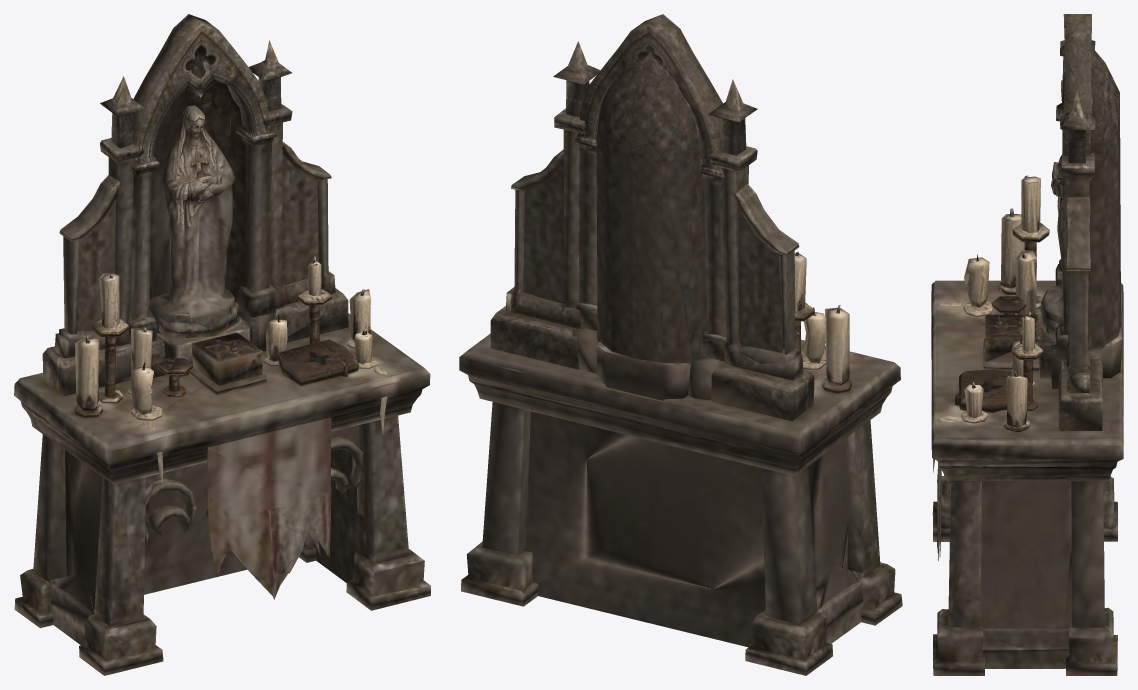
The model's file is h_shrine_candles.glb.
3 renders of one model, left to right at view 1: azimuth 30°, elevation 25°; view 2: azimuth 150°, elevation 25°; view 3: azimuth 270°, elevation 25°, orthographic. The views are drawn at different scales.
Parts seen in each view (by area): view 1: h_shrine_candles; view 2: h_shrine_candles; view 3: h_shrine_candles.
Part boxes in pixels (<box>): h_shrine_candles: <box>14,14,430,675</box>; h_shrine_candles: <box>459,14,902,675</box>; h_shrine_candles: <box>931,14,1123,675</box>.
Bounding box in the file's own units: 1.08 × 1.79 × 0.5383.
1 material, 1 textured.
